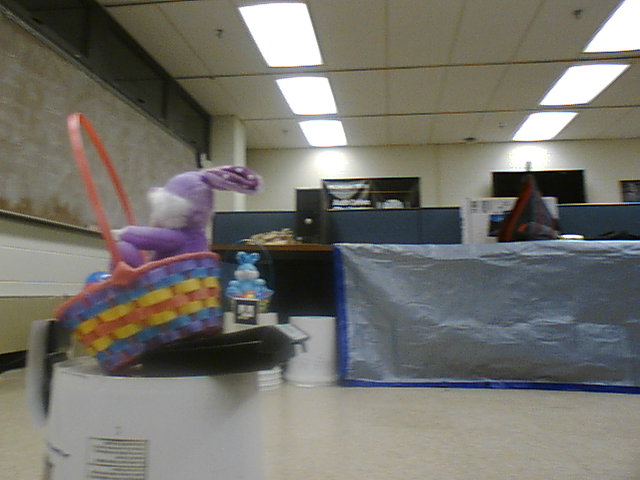bunny: (50, 102, 244, 351), (224, 235, 274, 308)
